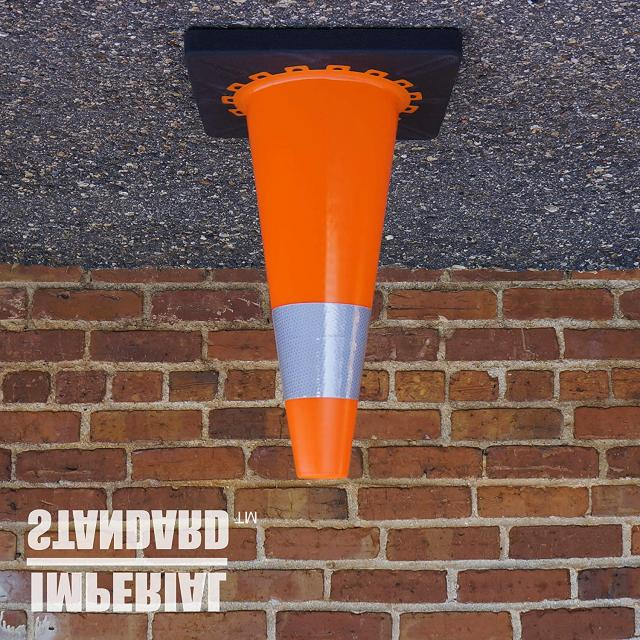cone: (182, 39, 471, 498)
